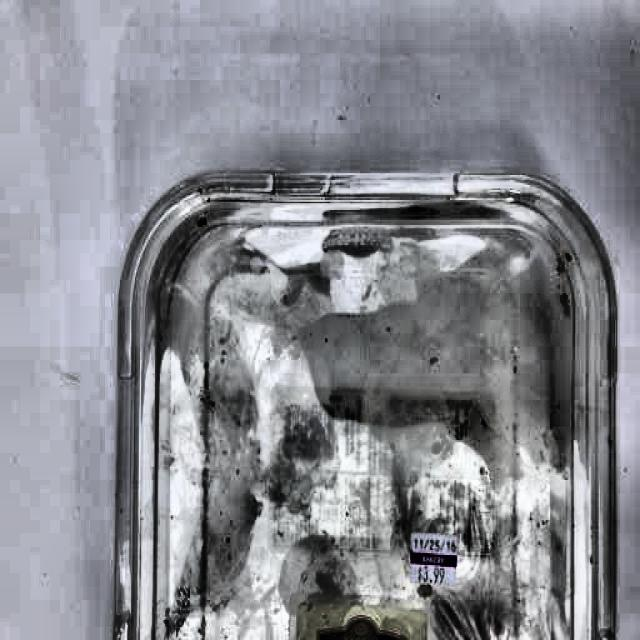plastic: (116, 168, 624, 640)
